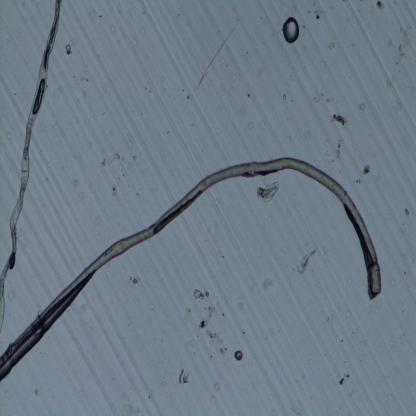Air bubble: (281, 15, 302, 46)
Background material: (0, 0, 62, 327), (186, 286, 226, 358), (292, 248, 319, 278), (397, 21, 416, 62), (257, 175, 281, 202), (331, 111, 349, 126), (177, 370, 190, 386), (232, 349, 245, 364), (362, 163, 372, 178), (376, 0, 387, 13), (65, 43, 72, 57)
Microfibre: (0, 151, 384, 373)
